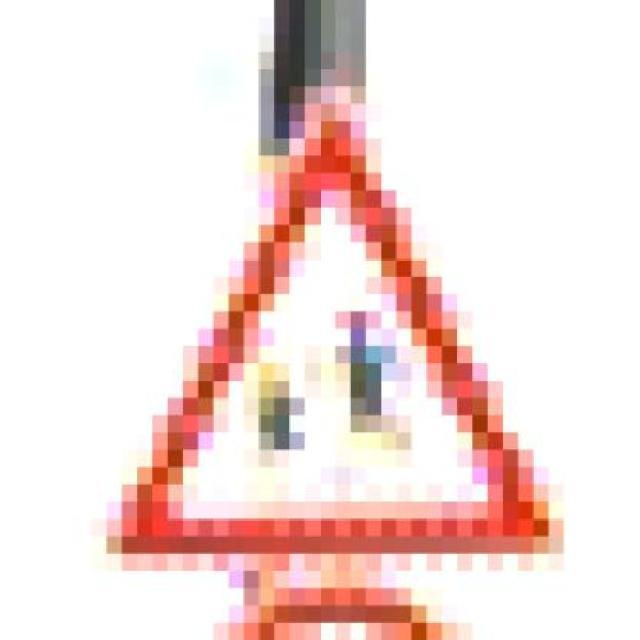Beware of children: (76, 86, 579, 571)
